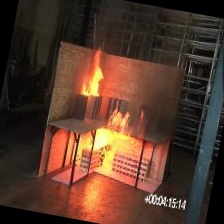fire: (76, 104, 137, 177), (78, 44, 119, 113)
